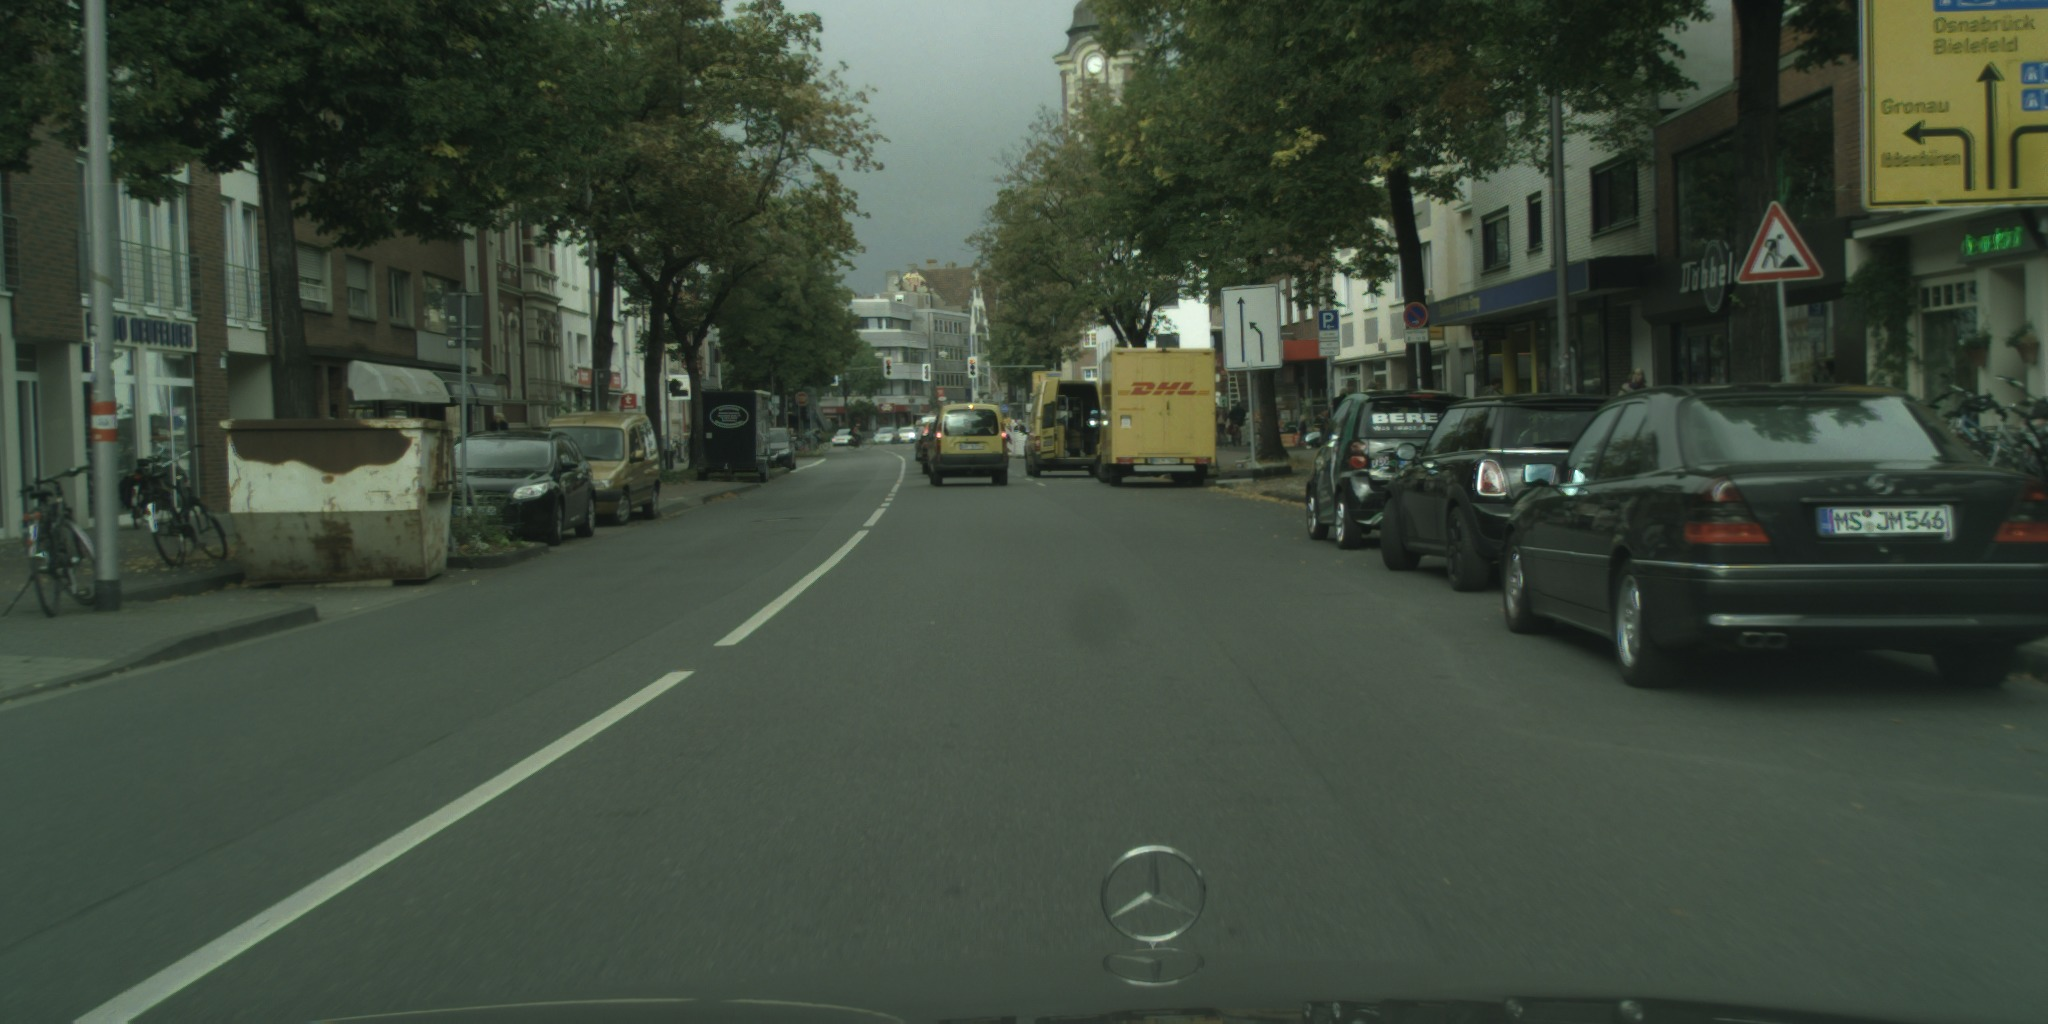bicycle: (2, 460, 100, 623), (140, 444, 229, 570), (120, 439, 187, 530), (801, 436, 831, 452), (845, 436, 873, 450)
car: (1502, 381, 2046, 690), (1381, 393, 1625, 593), (1303, 387, 1481, 550), (444, 427, 596, 546), (548, 410, 661, 526), (1018, 379, 1107, 478), (927, 402, 1009, 488), (764, 427, 797, 471), (918, 417, 939, 475), (915, 416, 940, 463), (832, 426, 859, 446), (871, 427, 900, 444), (893, 427, 917, 444)
person: (1320, 386, 1354, 451), (1616, 365, 1654, 402), (1226, 400, 1246, 448), (1212, 402, 1230, 448), (1479, 377, 1504, 401), (485, 413, 510, 433), (1295, 414, 1307, 450), (1364, 378, 1379, 394)
rider: (802, 427, 826, 452), (848, 422, 861, 447)
truck: (1087, 348, 1214, 488)
